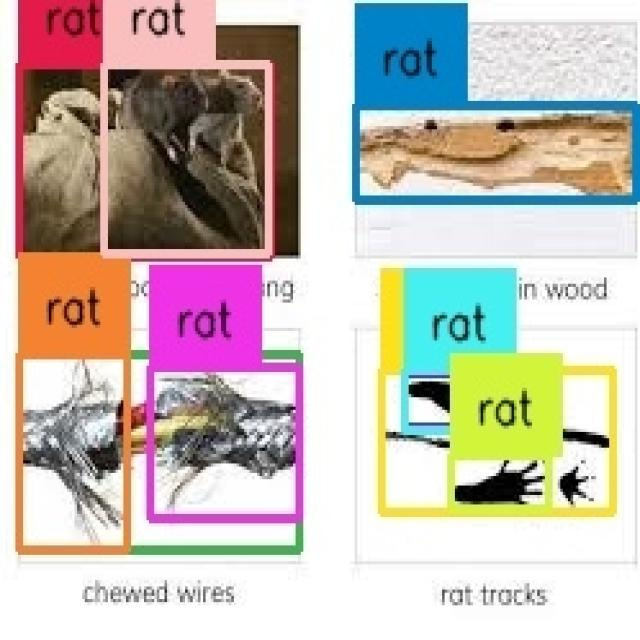rat: (19, 355, 300, 550), (20, 63, 270, 255), (383, 369, 614, 514), (105, 67, 270, 256), (356, 107, 636, 202), (149, 366, 301, 517), (19, 353, 128, 552), (405, 369, 546, 429), (451, 454, 549, 508), (405, 372, 495, 429)
